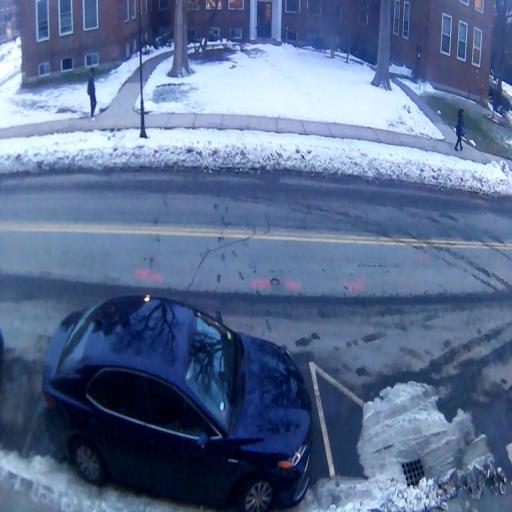pessoa: (85, 62, 100, 123), (454, 102, 467, 155)
